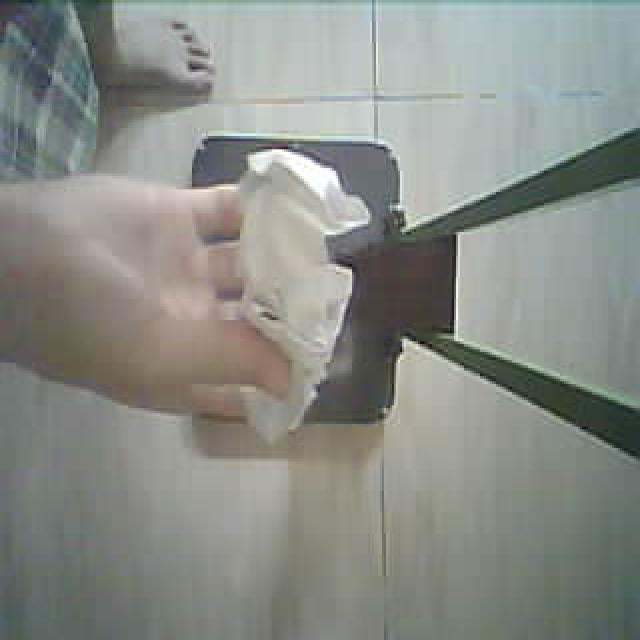Paper: (119, 142, 457, 442)
